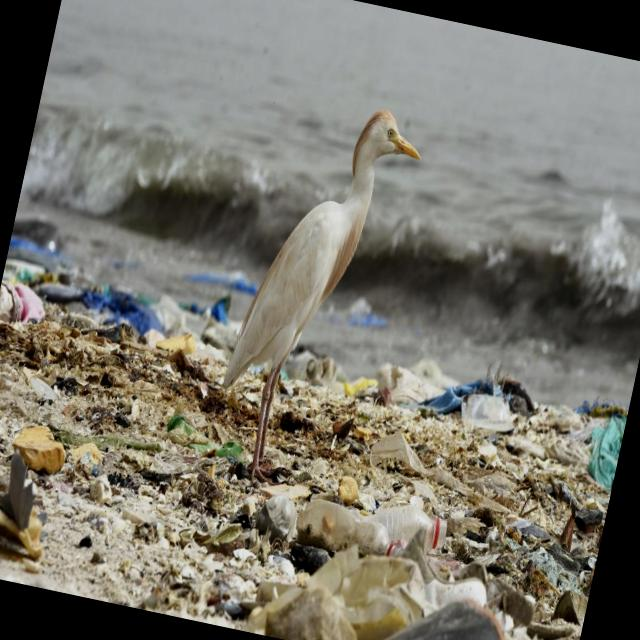garbage: (0, 268, 622, 640)
